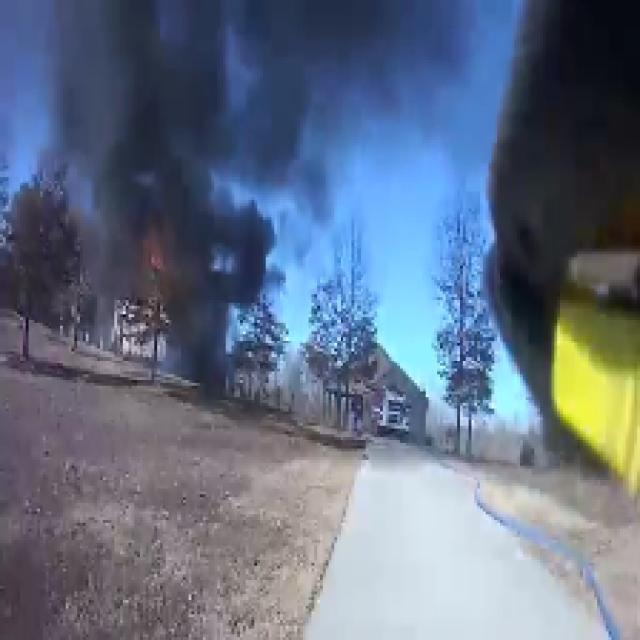smoke: (68, 18, 268, 246)
